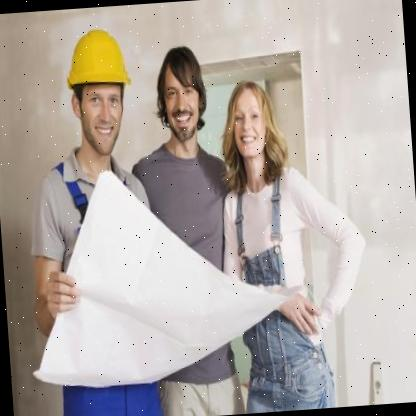capacete: (64, 28, 138, 156)
sem_capacete: (216, 76, 288, 184), (148, 42, 212, 146)
sem_colete_refletivo: (20, 136, 164, 398), (129, 136, 238, 380), (214, 161, 336, 359)
